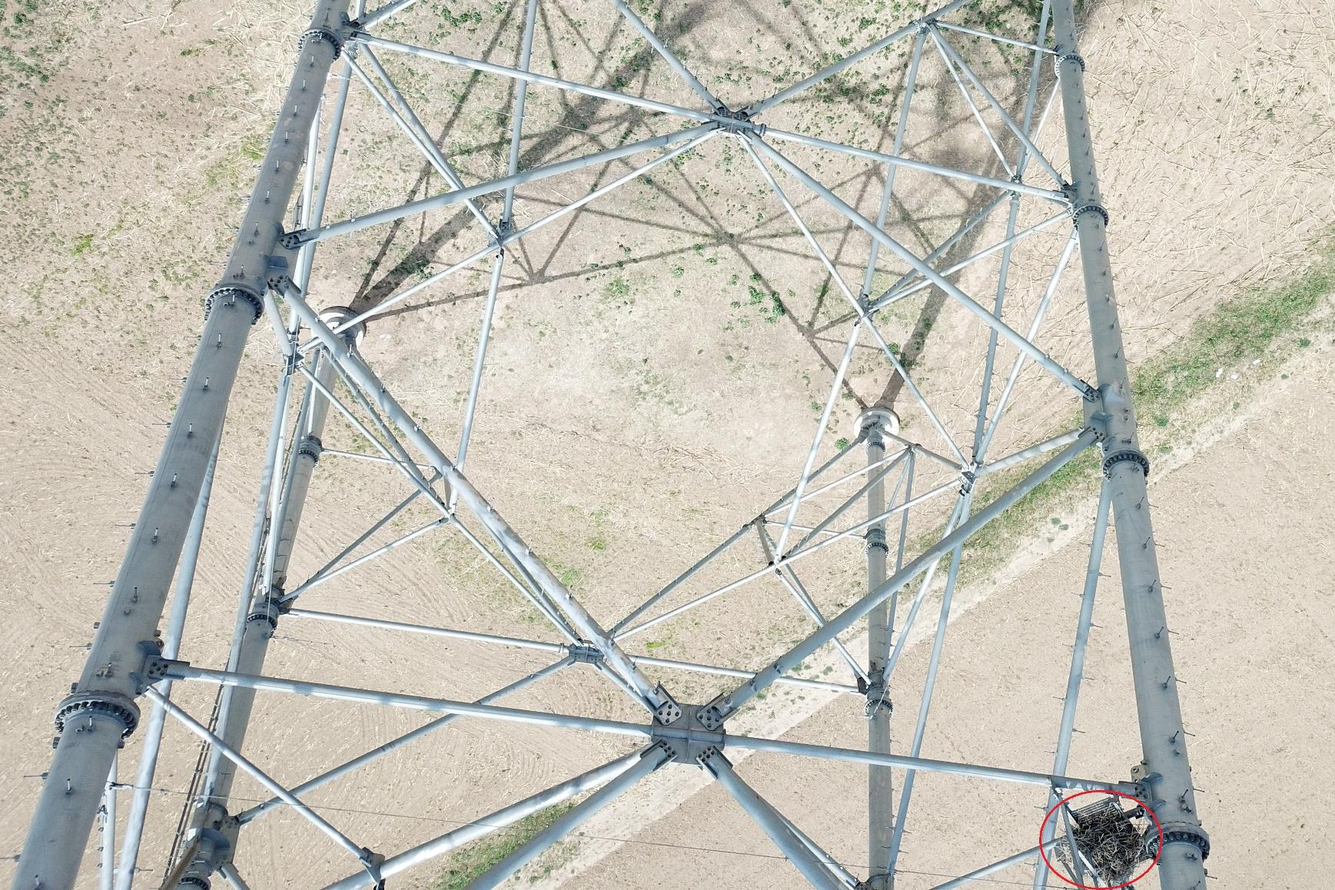nest: (1059, 797, 1152, 890)
